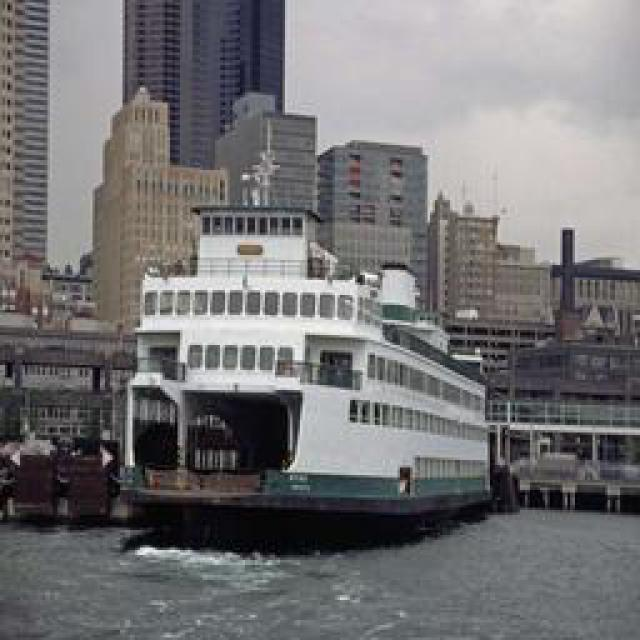Ship: (112, 174, 502, 547)
